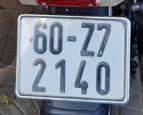0: (93, 60, 113, 97), (48, 22, 68, 54)
1: (52, 57, 69, 97)
2: (29, 58, 49, 92)
4: (73, 58, 92, 98)
6: (31, 21, 50, 54)
7: (95, 23, 113, 57)
Z: (78, 23, 96, 58)
